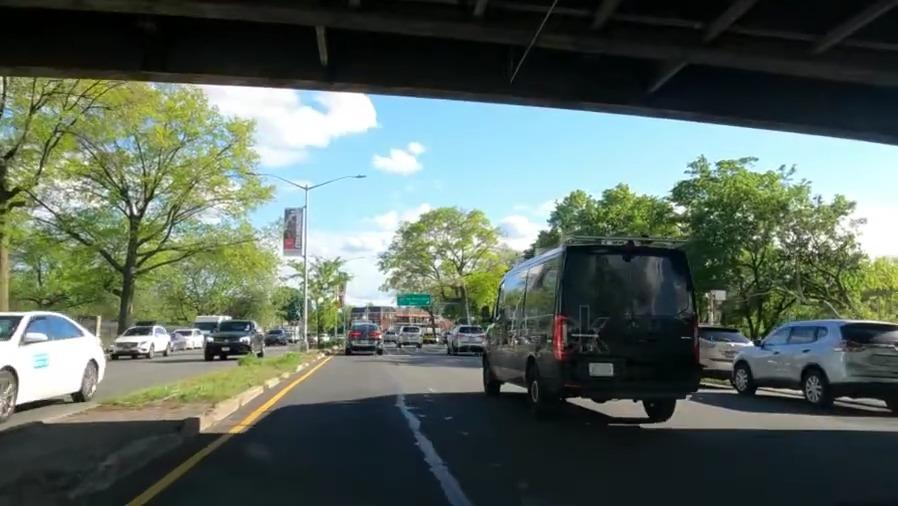car: (737, 319, 898, 409), (1, 306, 107, 419), (698, 320, 739, 379), (209, 321, 269, 359), (117, 324, 167, 359), (345, 323, 385, 354), (450, 326, 479, 351), (398, 327, 423, 349), (186, 329, 205, 350), (169, 331, 183, 353), (269, 329, 284, 343)
van: (481, 260, 697, 415)
wheel: (74, 359, 103, 401), (801, 365, 827, 407), (1, 369, 19, 424), (729, 364, 759, 395)
